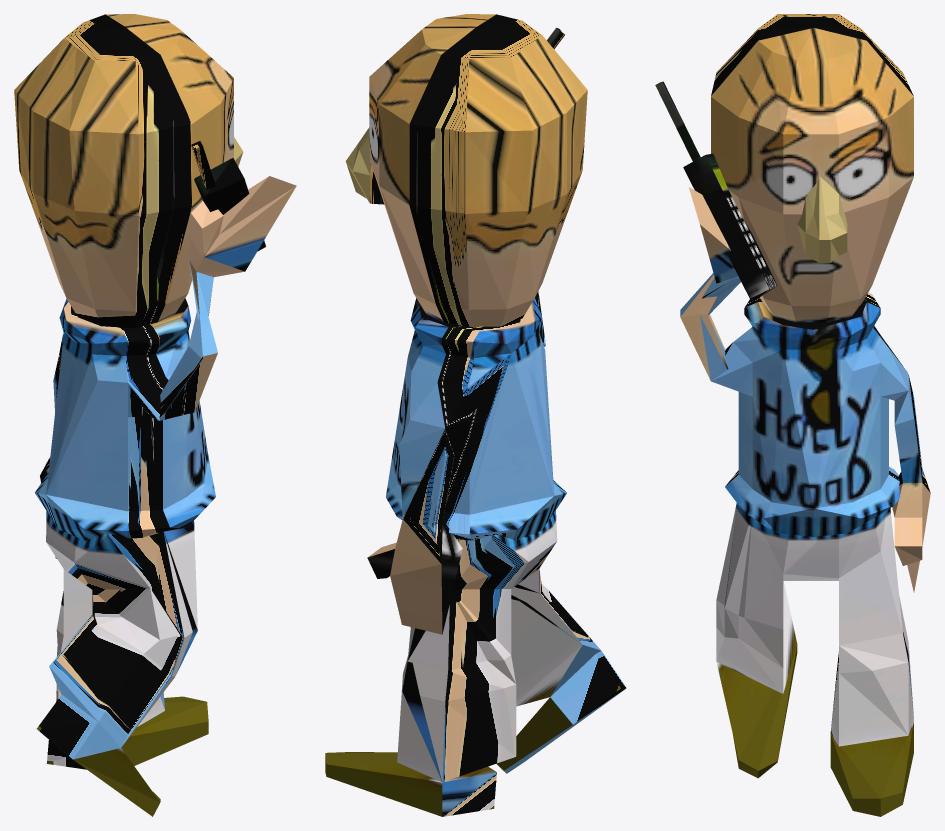
File: PipCell.glb
3 renders of one model, left to right at view 1: azimuth 30°, elevation 25°; view 2: azimuth 150°, elevation 25°; view 3: azimuth 270°, elevation 25°, orthographic.
Visible parts, largest first — view 1: PipCell; view 2: PipCell; view 3: PipCell.
Boxes of the visible parts, x1,y1,x2,y2 form: PipCell: (14,14,296,816); PipCell: (325,14,626,816); PipCell: (655,14,930,816).
Size of the model in its own units: 38.26 by 118 by 39.08.
Materials: 1 (1 with a texture image).
